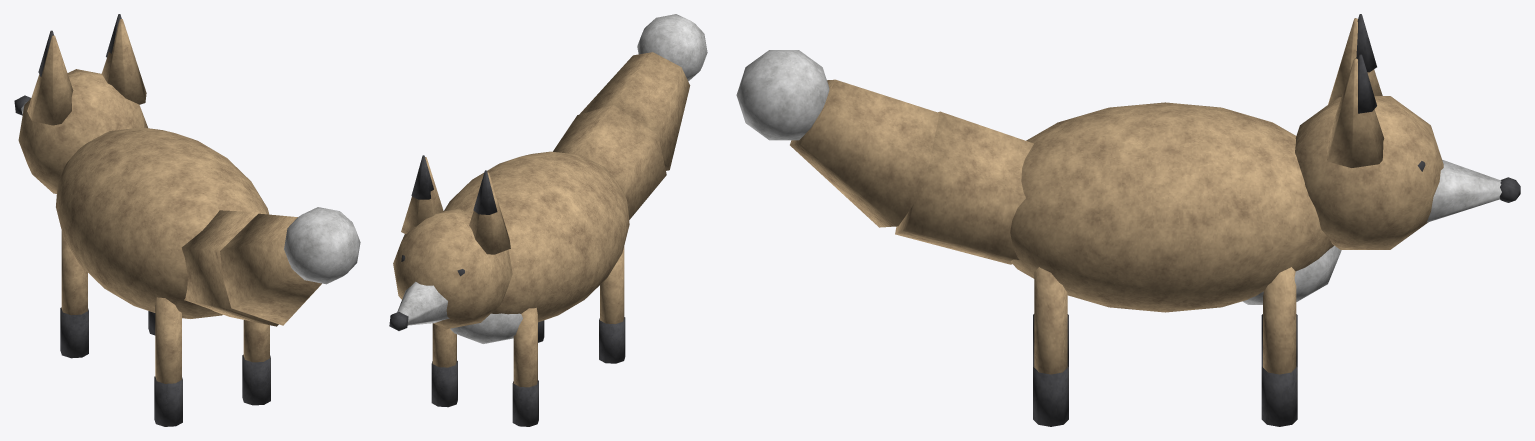
The model's file is mob_rubah_idle.obj.
The picture shows the model from 3 angles, left to right: view 1: azimuth 30°, elevation 25°; view 2: azimuth 150°, elevation 25°; view 3: azimuth 270°, elevation 25°; orthographic projection. The views are drawn at different scales.
Visible parts, largest first — view 1: mob_rubah_idle; view 2: mob_rubah_idle; view 3: mob_rubah_idle.
Boxes of the visible parts, bbox=[...] form: mob_rubah_idle: bbox=[14, 14, 360, 426]; mob_rubah_idle: bbox=[389, 14, 707, 426]; mob_rubah_idle: bbox=[736, 14, 1520, 426].
Bounding box in the file's own units: 0.3759 × 0.65 × 1.29.
1 material, 1 textured.
